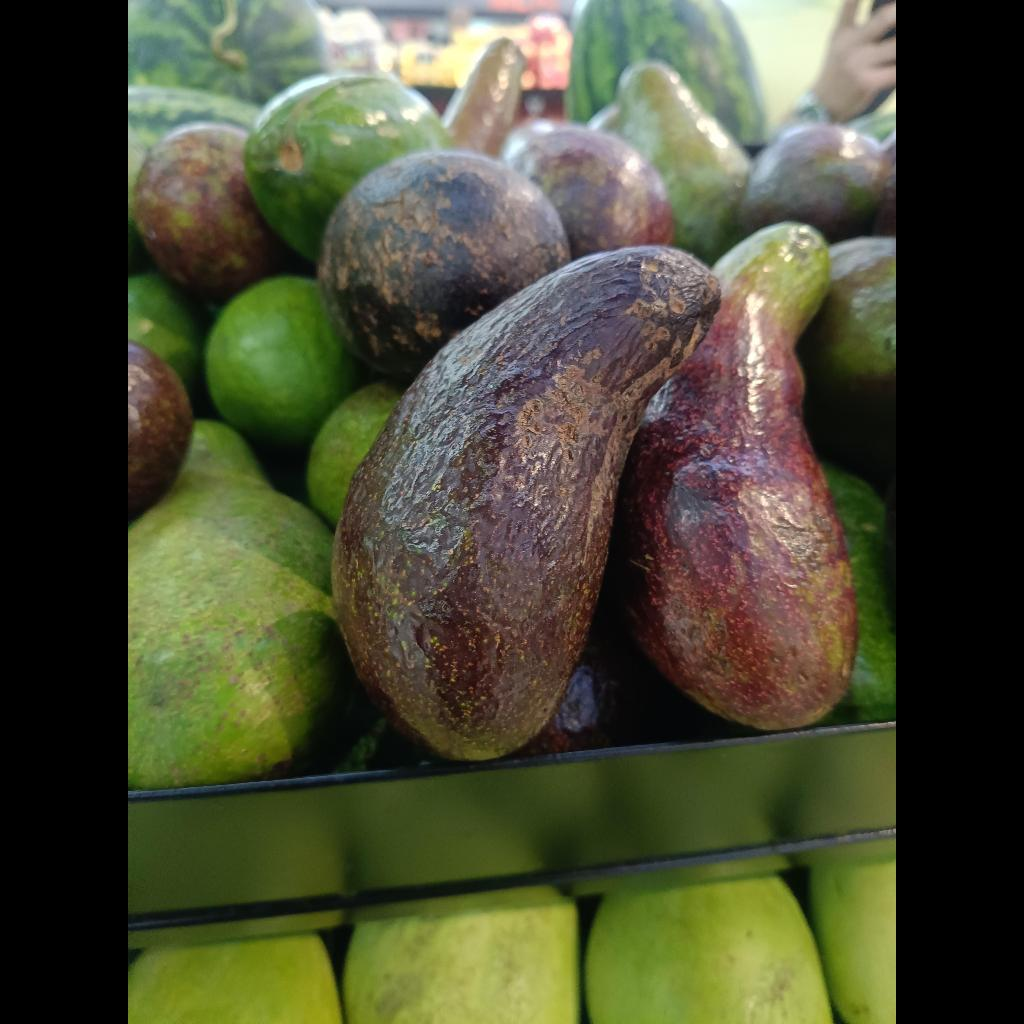antracnosis_fruto: (332, 246, 719, 759), (318, 150, 571, 380)
